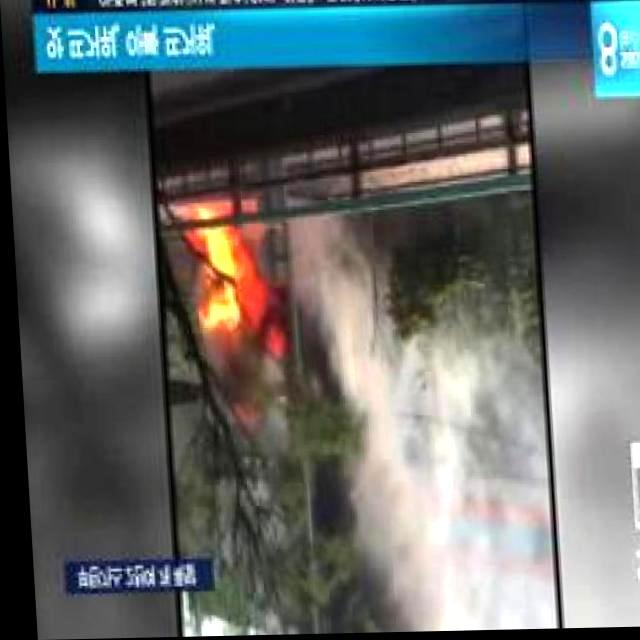fire: (176, 194, 260, 316)
